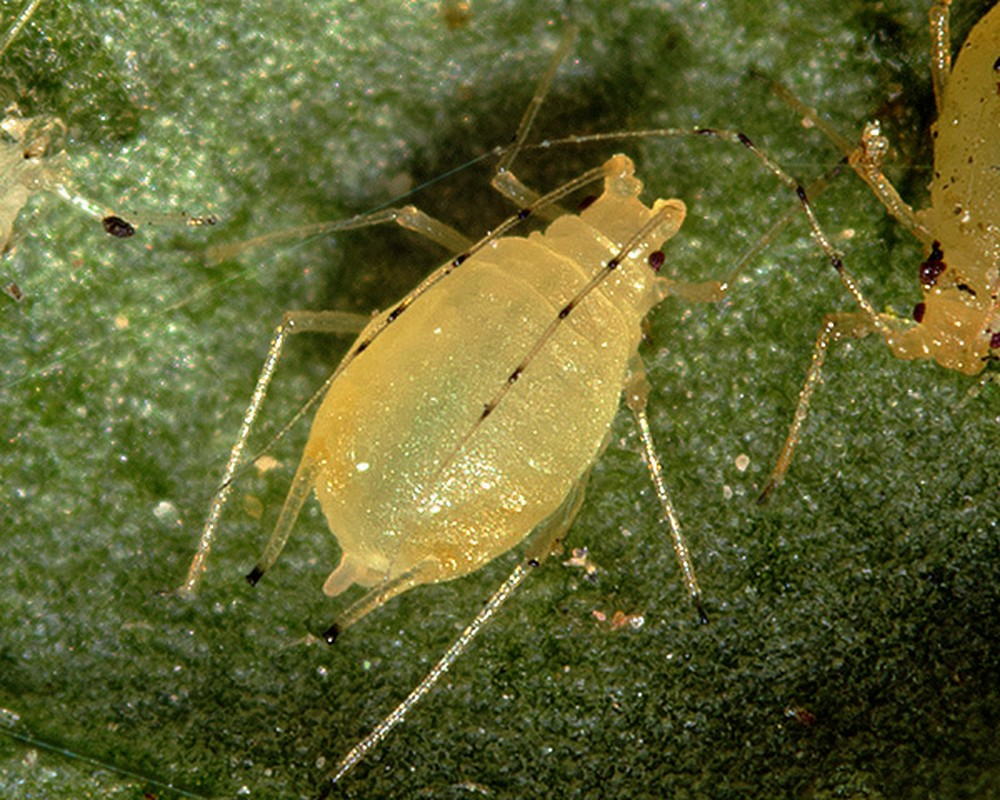Pulgon: (182, 84, 785, 748), (791, 7, 1000, 522)
